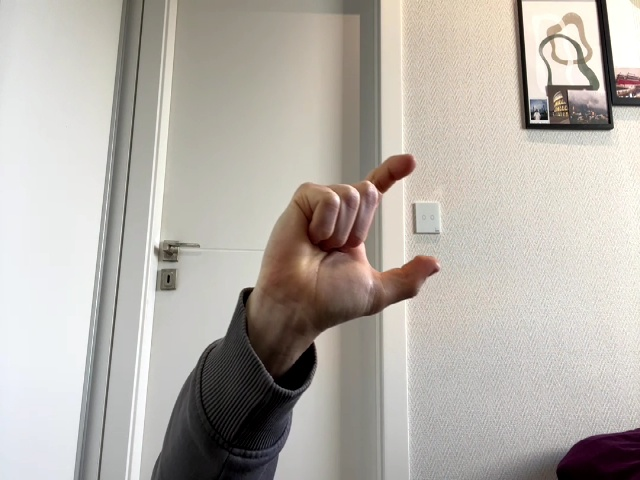C: (259, 155, 440, 332)
